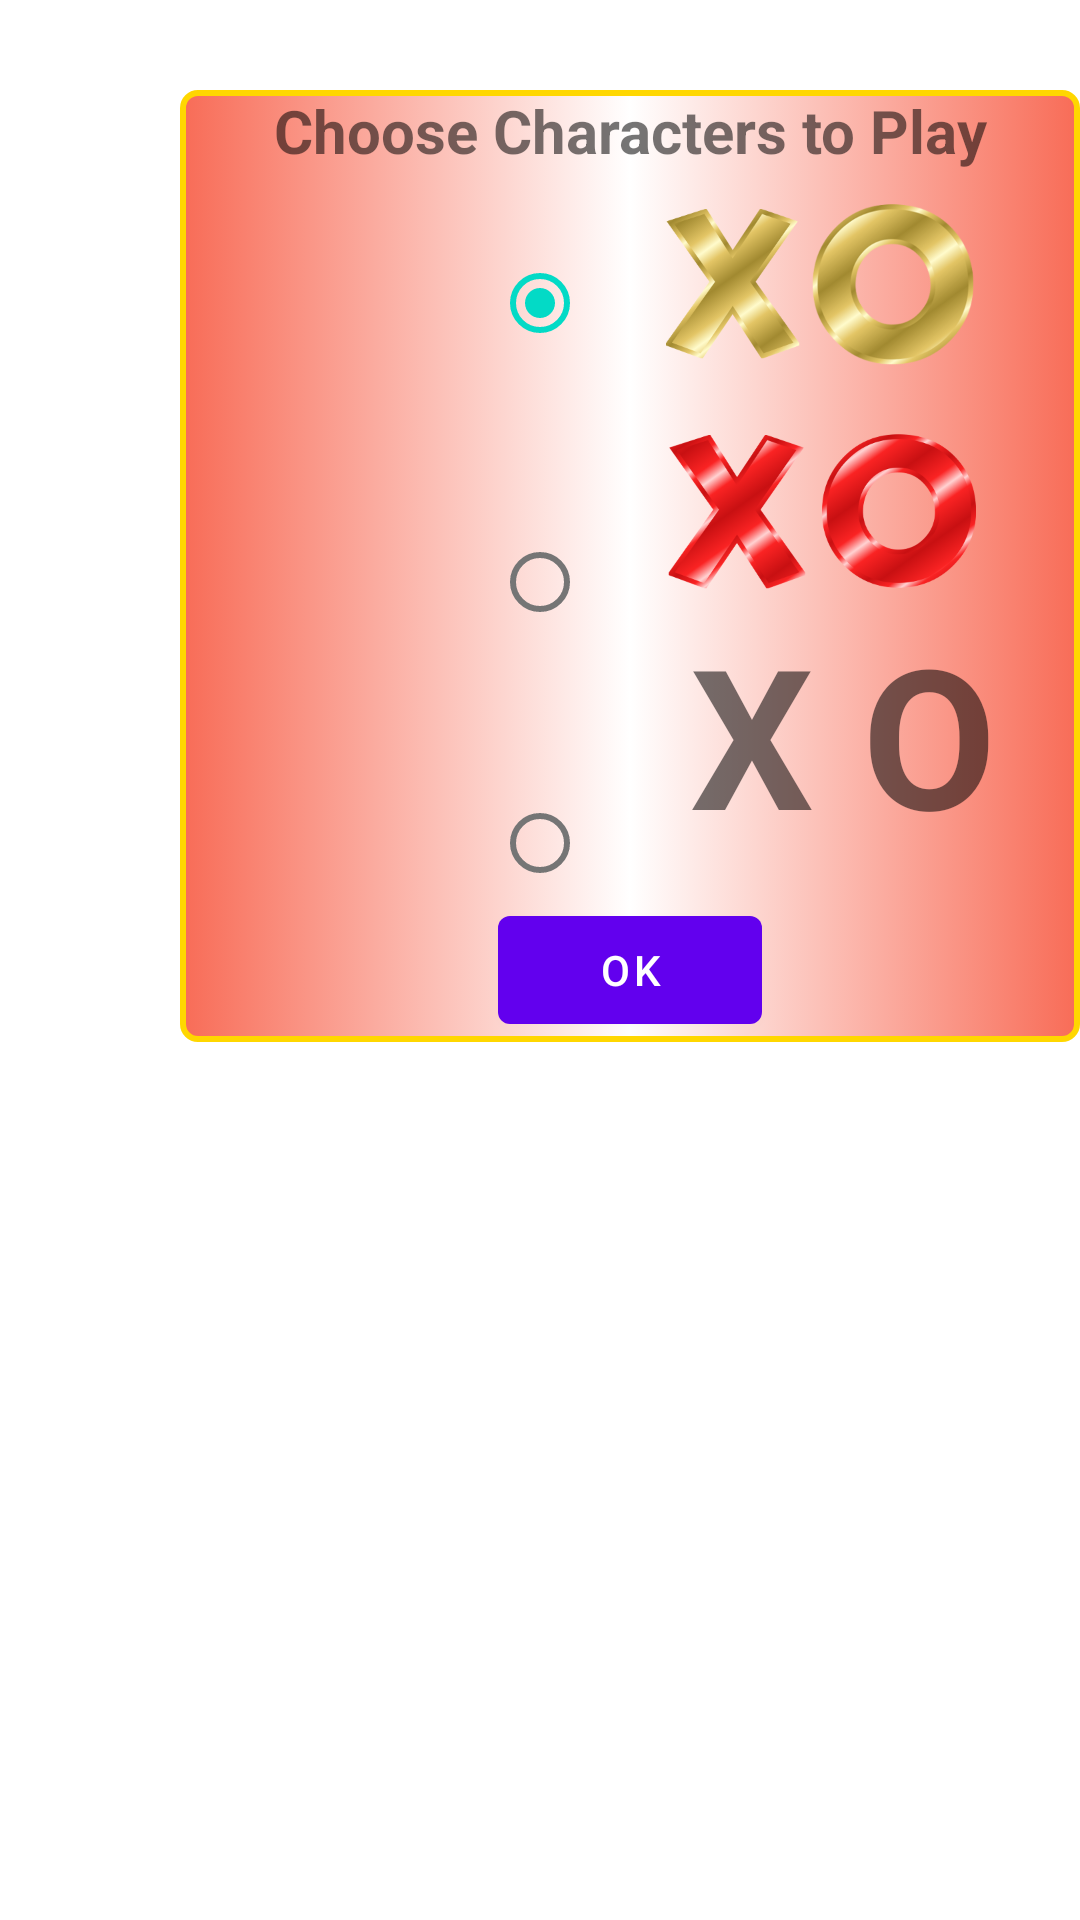

Point at icon controls on the screen. Image size 1080 × 1920, points as (x,y).
gold: (822,285)
